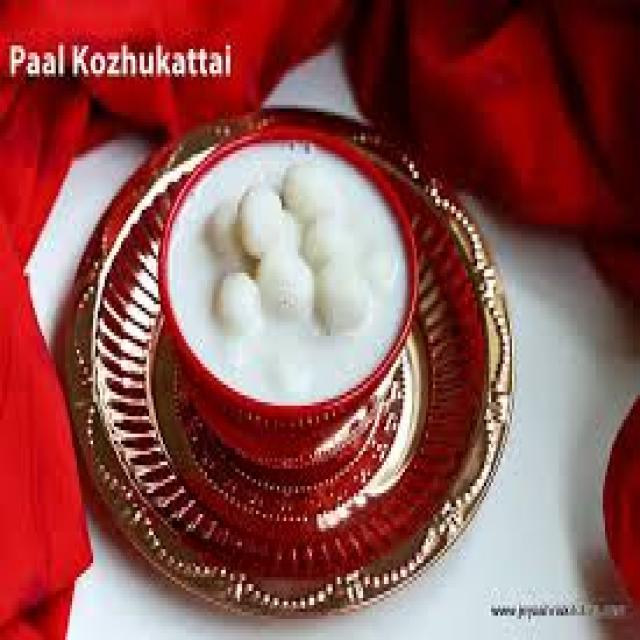paal kolukattai: (173, 125, 398, 392)
